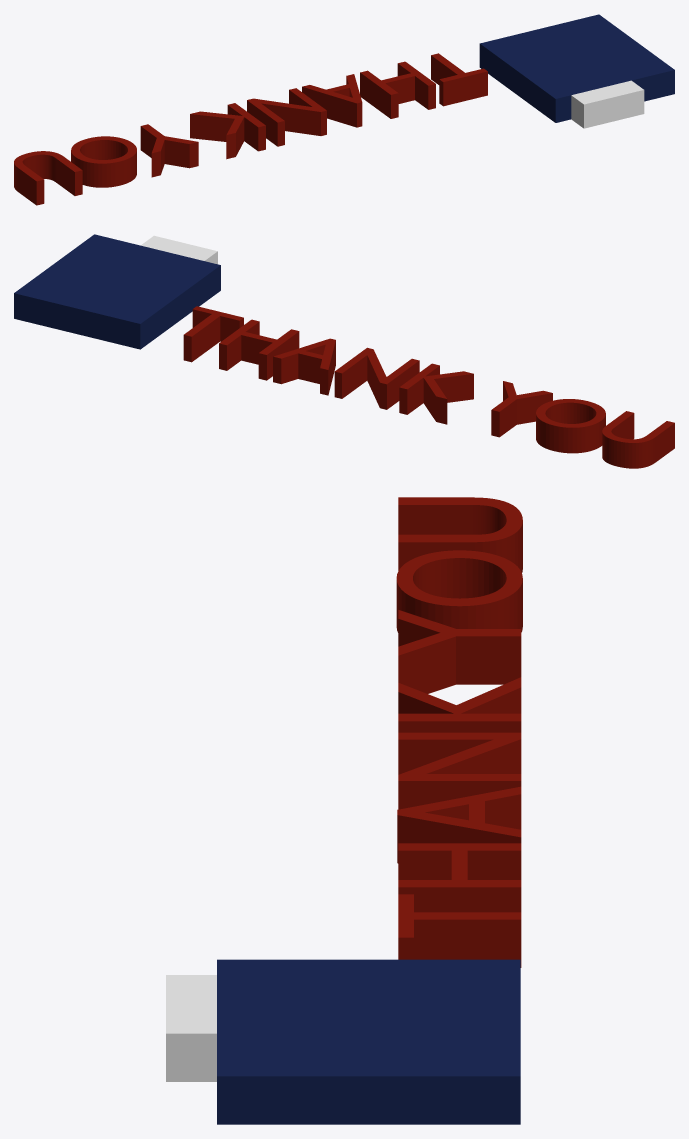
The model's file is rot_thank_you.gltf.
The picture shows the model from 3 angles, top to bottom: view 1: azimuth 30°, elevation 25°; view 2: azimuth 150°, elevation 25°; view 3: azimuth 270°, elevation 25°; orthographic projection. The views are drawn at different scales.
Parts seen in each view (by area): view 1: rot.thank.you; view 2: rot.thank.you; view 3: rot.thank.you.
Part boxes in pixels (x1,y1,x2,y2): rot.thank.you: (14,14,674,205); rot.thank.you: (14,234,674,468); rot.thank.you: (166,497,522,1124).
Bounding box in the file's own units: 17.28 × 0.6722 × 4.5.
